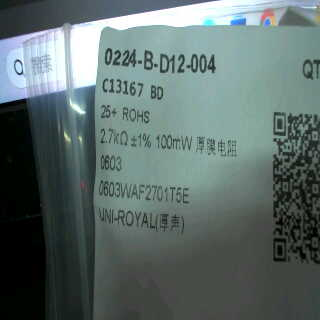2.7kR: (97, 126, 129, 153)
